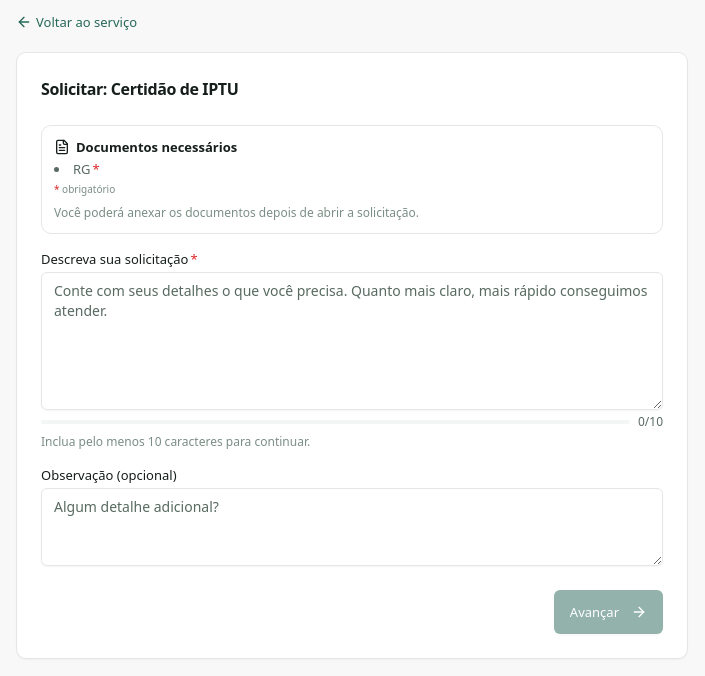
Solicitar serviço (PR 4b) › UX-1: 'Avançar' fica desabilitado até atingir o mínimo de caracteres
Expected: the heading "Documentos necessários" is shown, [54,138,237,156]
Expected: the button "Avançar" is disabled, [554,590,663,634]
Replace the text in the text box labelled "Descreva sua solicitação*" with "curto" at coordinates (352, 341), box [41,272,663,410]
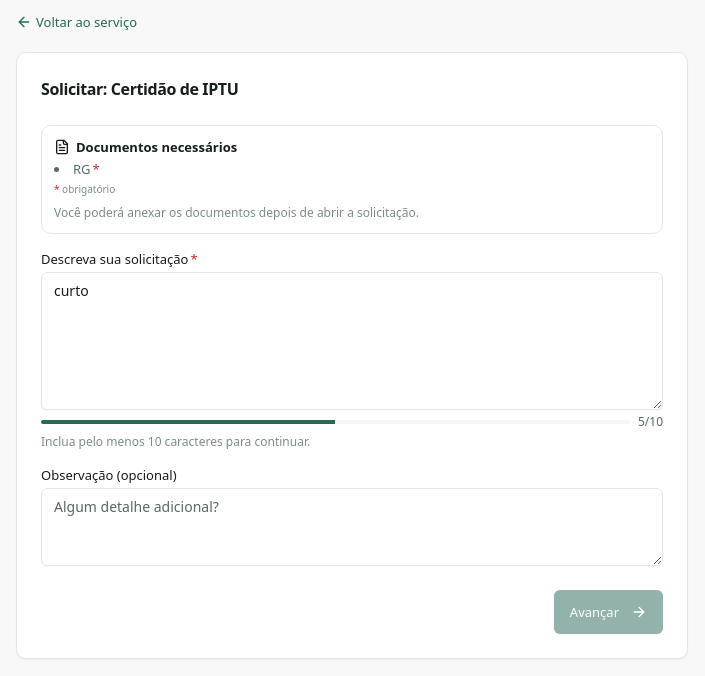
Expected: the button "Avançar" is disabled, [554,590,663,634]
Replace the text in the text box labelled "Descreva sua solicitação*" with "agora com mais de dez" at coordinates (352, 341), box [41,272,663,410]
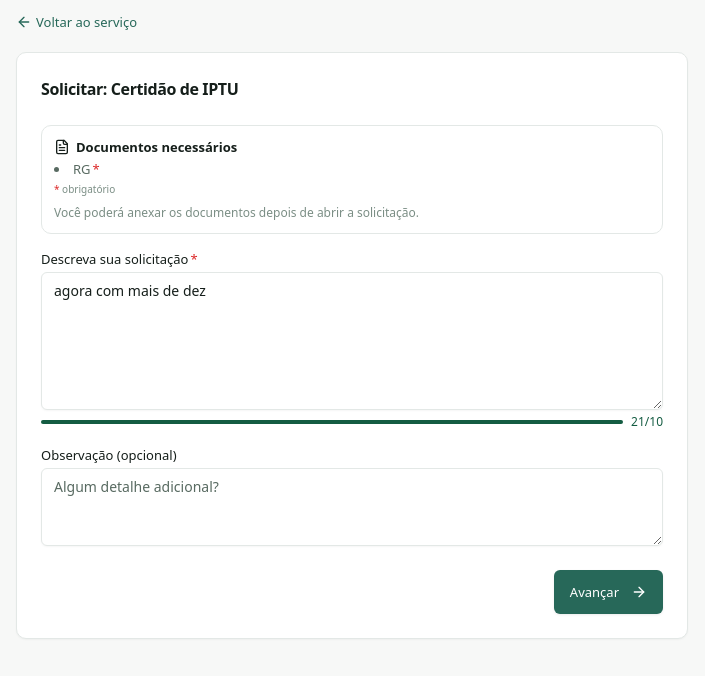
Expected: the button "Avançar" is enabled, [554,570,663,614]
